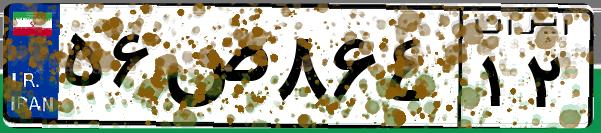1: (475, 38, 525, 113)
2: (525, 38, 570, 115)
4: (385, 28, 445, 110)
5: (57, 26, 110, 100)
6: (330, 28, 385, 110), (110, 28, 158, 98)
8: (270, 28, 330, 110)
ص: (158, 20, 270, 120)
